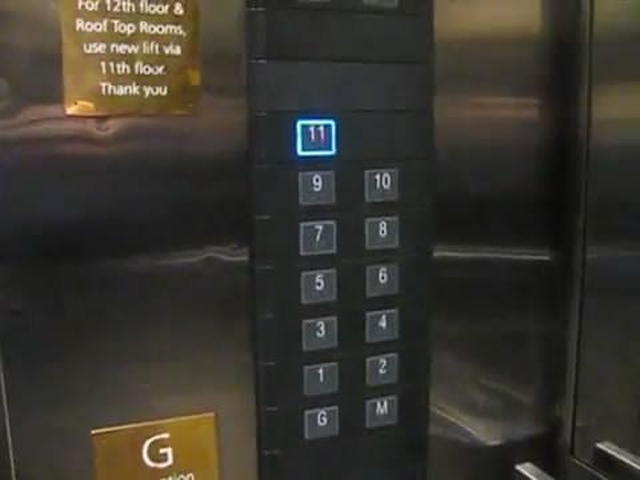1: (303, 361, 339, 397)
10: (361, 166, 400, 204)
11: (294, 116, 338, 158)
2: (364, 351, 398, 388)
3: (302, 315, 339, 351)
4: (364, 308, 400, 343)
5: (299, 267, 339, 305)
6: (363, 262, 401, 299)
7: (296, 219, 340, 256)
8: (363, 214, 399, 251)
9: (297, 169, 338, 205)
G: (304, 405, 339, 440)
M: (364, 395, 399, 429)
